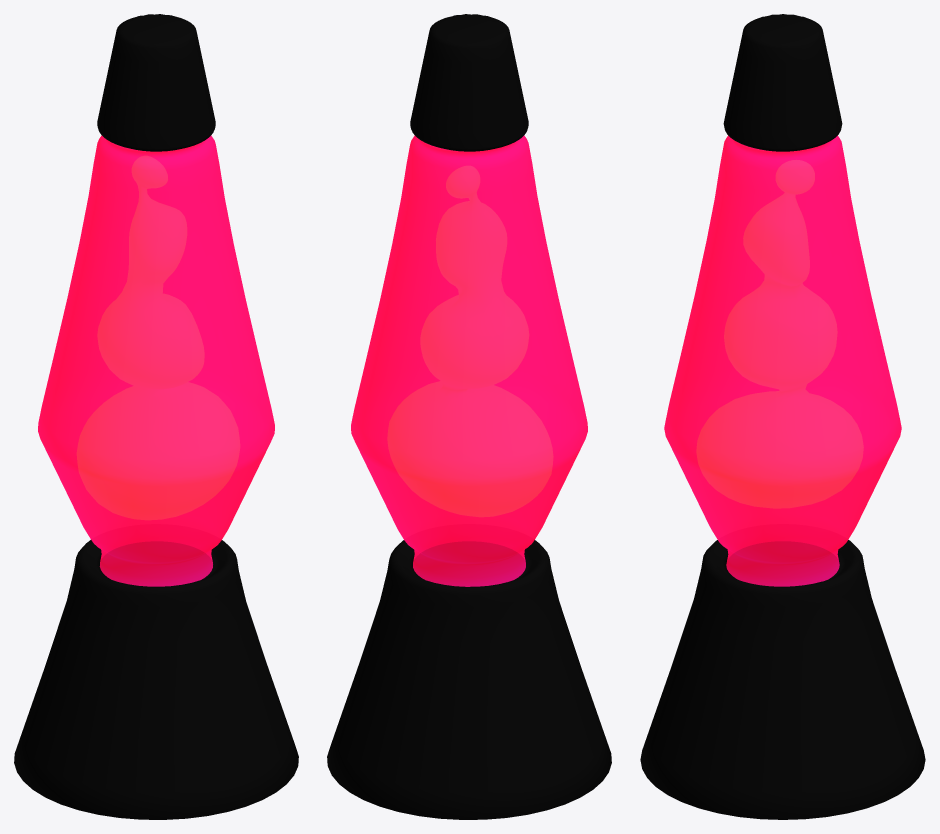
File: lava2.gltf
3 renders of one model, left to right at view 1: azimuth 30°, elevation 25°; view 2: azimuth 150°, elevation 25°; view 3: azimuth 270°, elevation 25°, orthographic.
Parts seen in each view (by area): view 1: pCylinder1, LAVAMESH; view 2: pCylinder1, LAVAMESH; view 3: pCylinder1, LAVAMESH.
Boxes of the visible parts, x1=… form: pCylinder1: x1=14, y1=14, x2=298, y2=819; LAVAMESH: x1=77, y1=156, x2=239, y2=519; pCylinder1: x1=327, y1=14, x2=611, y2=819; LAVAMESH: x1=388, y1=168, x2=552, y2=516; pCylinder1: x1=640, y1=14, x2=925, y2=819; LAVAMESH: x1=697, y1=161, x2=862, y2=507.
Size of the model in its own units: 1.48 by 4.2 by 1.48.
